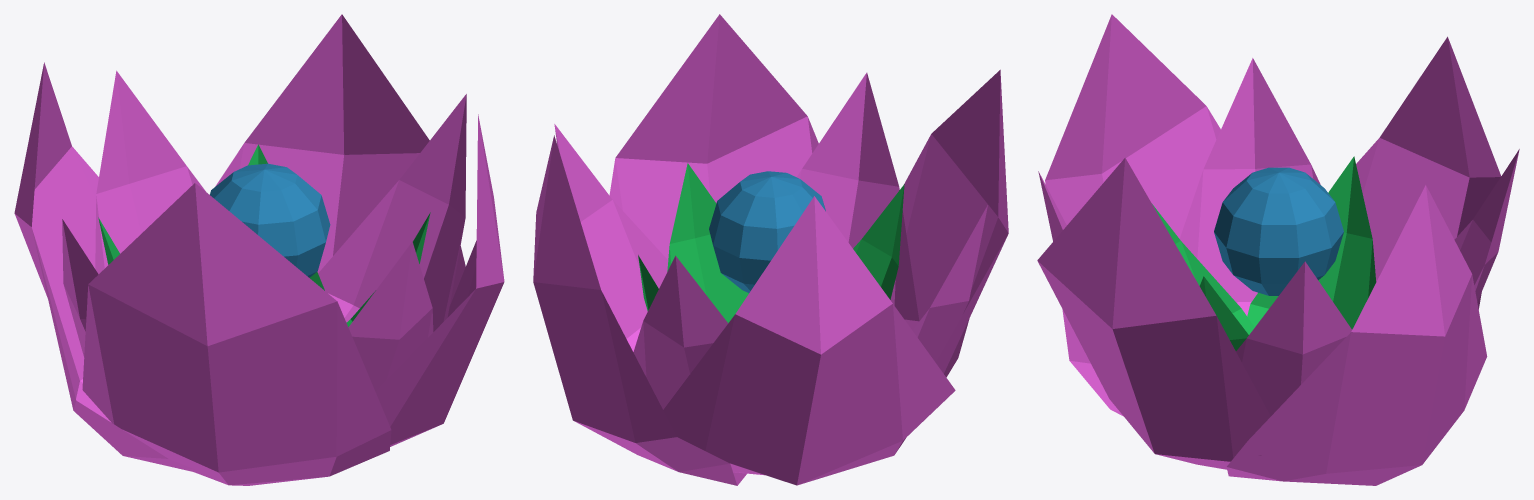
The model's file is HydroCannon_WaterTower.fbx.
The picture shows the model from 3 angles, left to right: view 1: azimuth 30°, elevation 25°; view 2: azimuth 150°, elevation 25°; view 3: azimuth 270°, elevation 25°; orthographic projection. The views are drawn at different scales.
Visible parts, largest first — view 1: Outer_petal3, Outer_petal1, Middle_petal4, Outer_petal4, Outer_petal2, Middle_petal1, Sphere, Middle_petal3, Middle_petal2; view 2: Outer_petal4, Outer_petal2, Outer_petal1, Outer_petal3, Middle_petal3, Middle_petal4, Sphere, Middle_petal1, Inner_petal2, Middle_petal2, Inner_petal3, Inner_petal1; view 3: Outer_petal1, Outer_petal2, Outer_petal3, Outer_petal4, Sphere, Middle_petal2, Middle_petal4, Inner_petal4, Middle_petal1, Inner_petal3, Inner_petal2, Middle_petal3.
Boxes of the visible parts, box(x1,y1,x2,y2) form: Outer_petal3: box(82, 183, 391, 485); Outer_petal1: box(215, 14, 465, 305); Middle_petal4: box(318, 94, 466, 331); Outer_petal4: box(14, 62, 195, 471); Outer_petal2: box(375, 114, 504, 446); Middle_petal1: box(95, 70, 205, 274); Sphere: box(210, 163, 330, 277); Middle_petal3: box(348, 241, 433, 391); Middle_petal2: box(62, 219, 98, 357); Outer_petal4: box(663, 196, 955, 485); Outer_petal2: box(609, 14, 818, 259); Outer_petal1: box(533, 135, 746, 485); Outer_petal3: box(902, 69, 1008, 377); Middle_petal3: box(797, 72, 919, 330); Middle_petal4: box(554, 124, 668, 351); Sphere: box(709, 171, 825, 292); Middle_petal1: box(633, 255, 727, 409); Inner_petal2: box(667, 163, 748, 323); Middle_petal2: box(912, 205, 987, 362); Inner_petal3: box(853, 184, 904, 299); Inner_petal1: box(638, 255, 658, 311); Outer_petal1: box(1226, 185, 1487, 485); Outer_petal2: box(1037, 158, 1270, 469); Outer_petal3: box(1045, 14, 1220, 416); Outer_petal4: box(1356, 36, 1501, 309); Sphere: box(1214, 167, 1343, 295); Middle_petal2: box(1179, 58, 1320, 316); Middle_petal4: box(1236, 261, 1351, 415); Inner_petal4: box(1247, 156, 1376, 329); Middle_petal1: box(1454, 149, 1519, 301); Inner_petal3: box(1152, 204, 1254, 334); Inner_petal2: box(1199, 276, 1248, 350); Middle_petal3: box(1038, 171, 1066, 241).
Size of the model in its own units: 444 by 385 by 445.
